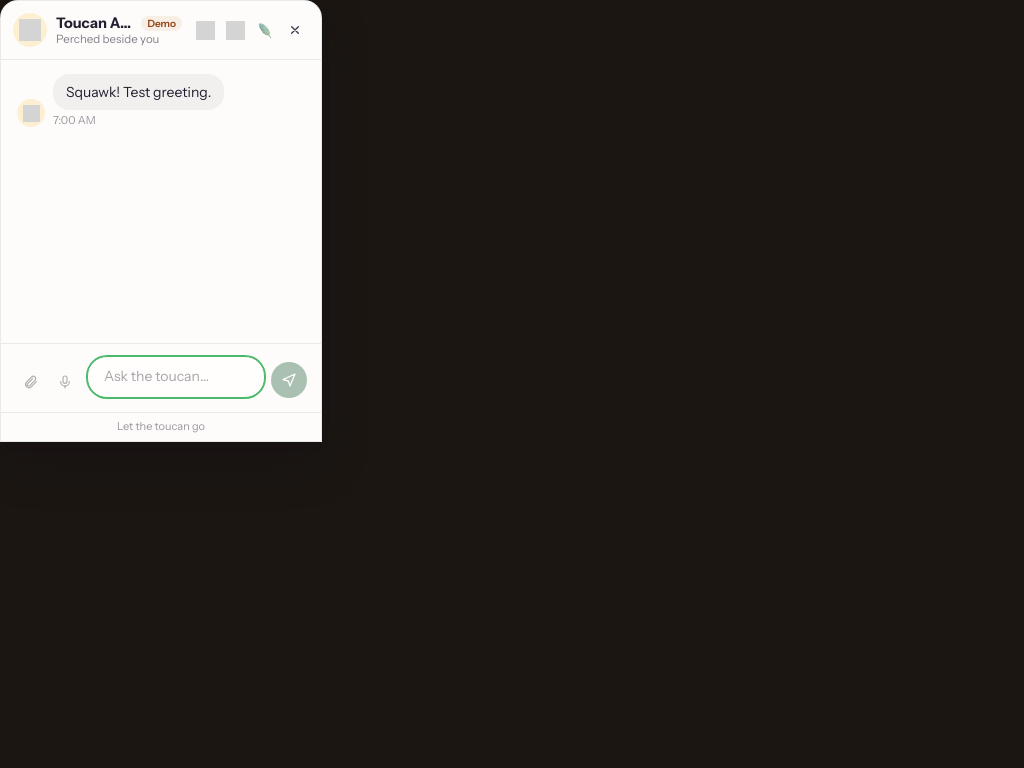
Test case: ToucanAssistantPanel — T8 action confirmation › words an expired/consumed proposal safely instead of claiming success
The width and height of the screenshot is (1024, 768).
Type "Set me to busy." into the text box named "Message the toucan" at x=176, y=377, box 87,356 -> 265,398
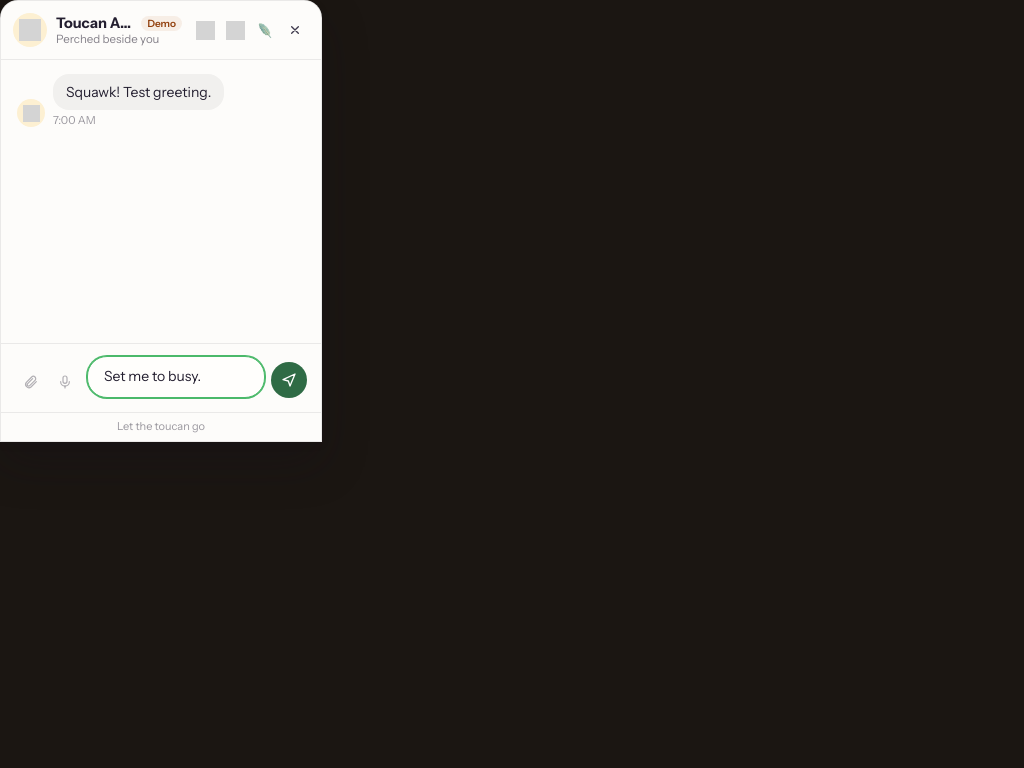
Press Enter in the text box named "Message the toucan", box 87,356 -> 265,398
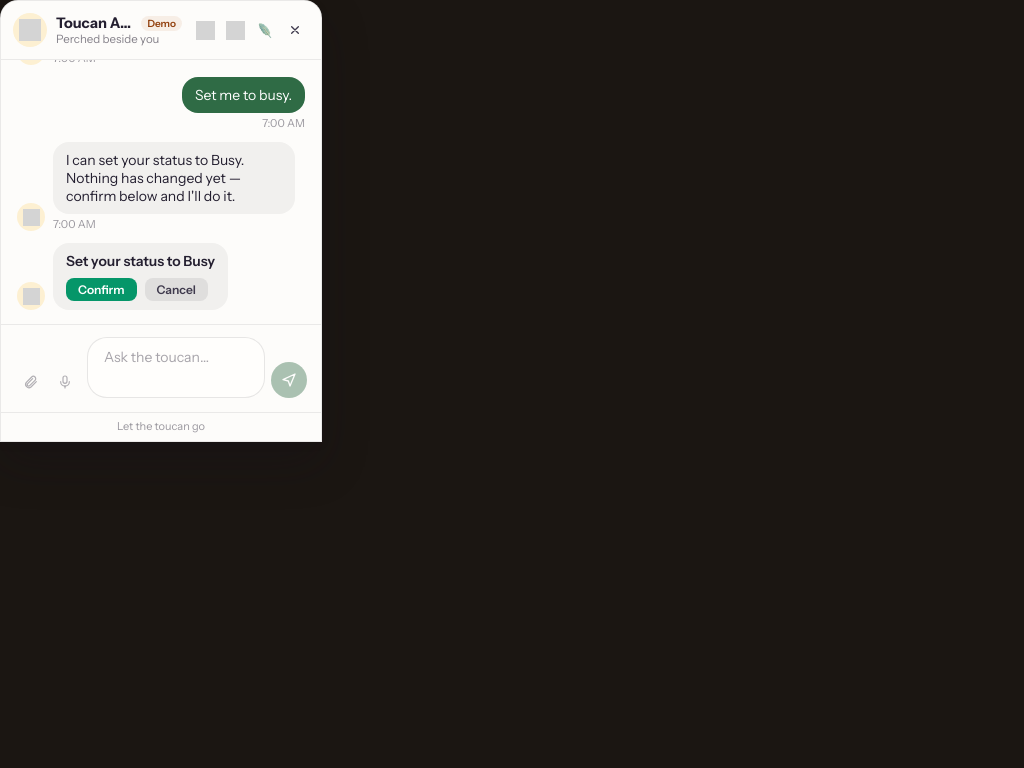
Click the button "Confirm" at x=101, y=290, box 66,278 -> 136,301
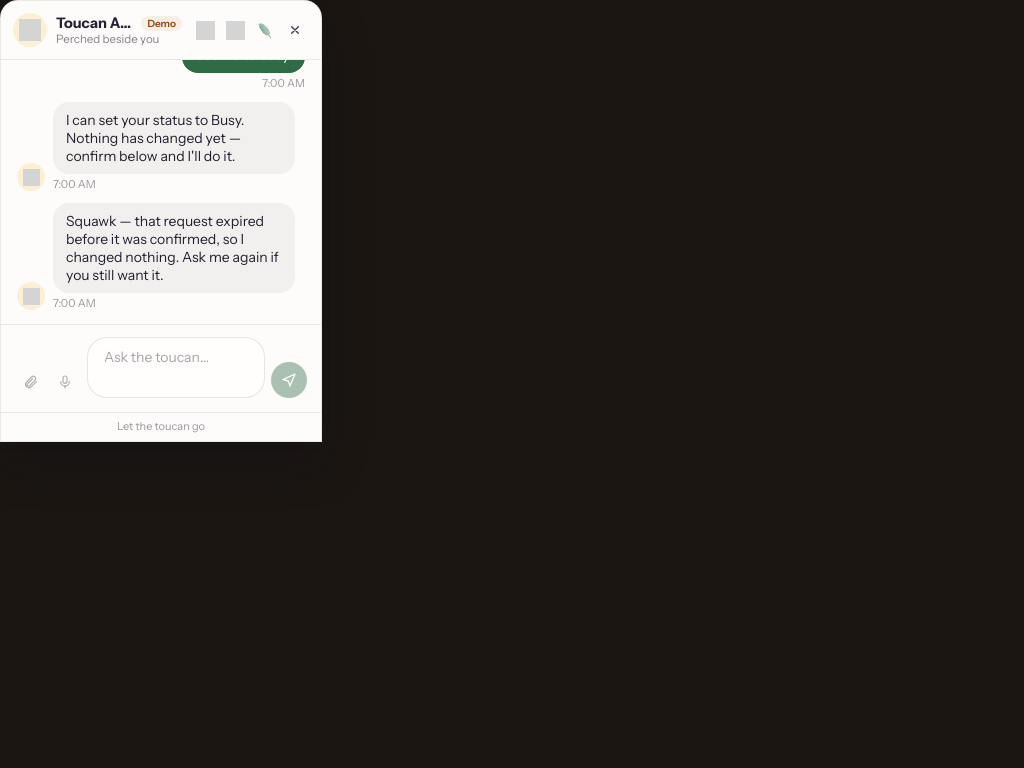
Result: the text "expired before it was confirmed" is shown at 66,212 -> 282,284
Result: the element with test id "toucan-action-card" is gone
